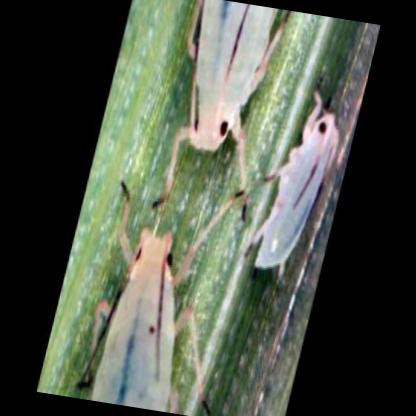schizaphis graminum: (157, 0, 284, 213), (248, 97, 341, 268)
